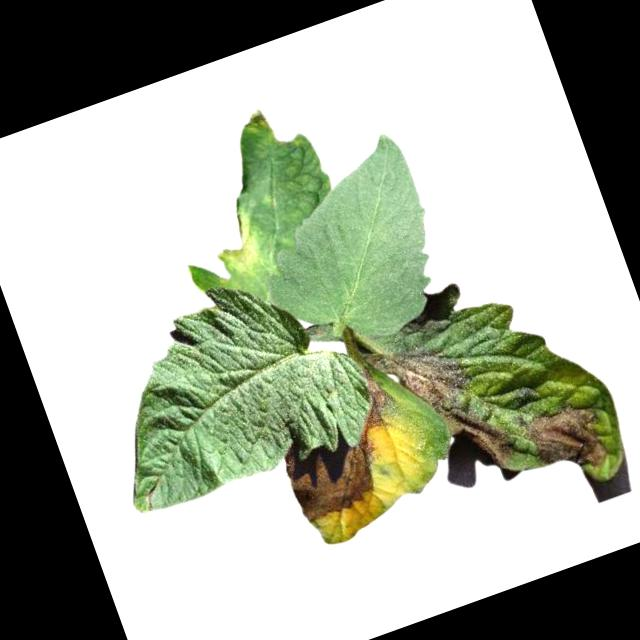Late_blight: (357, 314, 520, 501), (280, 428, 390, 527), (516, 393, 614, 487), (204, 204, 268, 286), (346, 362, 394, 430), (236, 106, 272, 141)
healthy: (71, 247, 388, 523), (228, 128, 462, 370)
